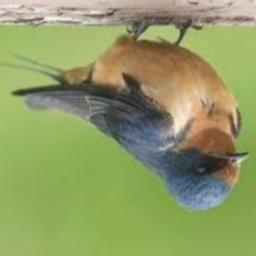Swallow: (0, 23, 250, 212)
